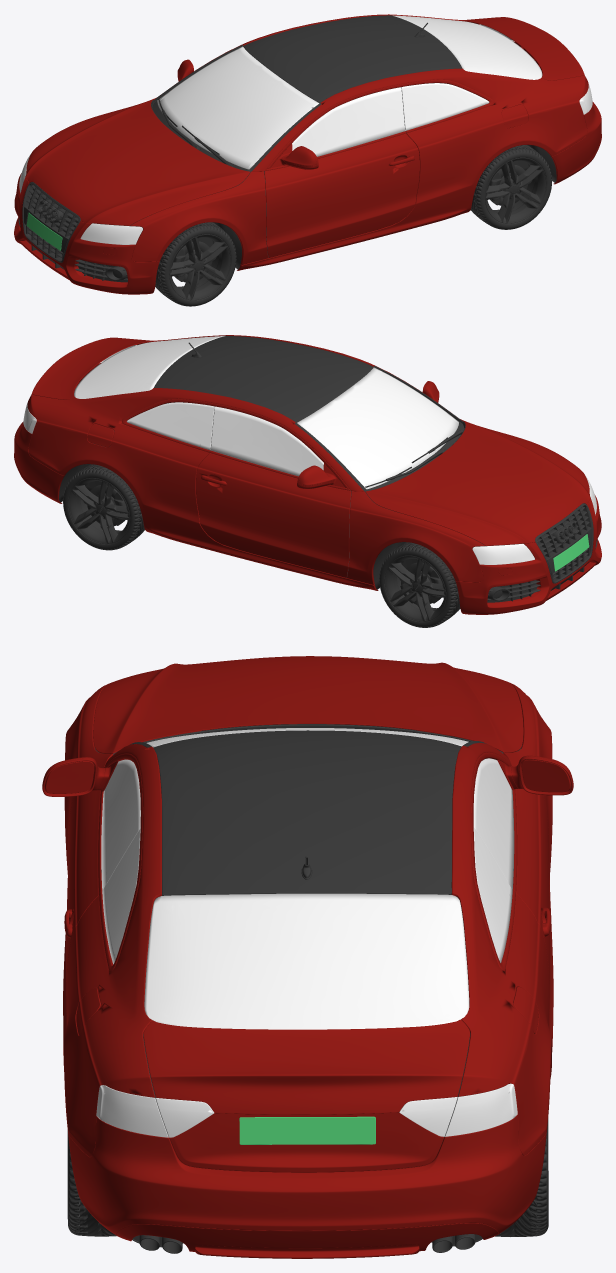
The model's file is gc_car1.glb.
3 renders of one model, top to bottom at view 1: azimuth 30°, elevation 25°; view 2: azimuth 150°, elevation 25°; view 3: azimuth 270°, elevation 25°, orthographic. The views are drawn at different scales.
Parts seen in each view (by area): view 1: Obj3d66_4616838_33_845, Obj3d66_4616838_28_213, Obj3d66_4616838_39_218, Obj3d66_4616838_47_756, Obj3d66_4616838_29_539, Obj3d66_4616838_35_493, Obj3d66_4616838_27_793, Obj3d66_4616838_67_536, Obj3d66_4616838_72_620, Obj3d66_4616838_63_449, Obj3d66_4616838_74_32, Obj3d66_4616838_34_979 (+5 smaller); view 2: Obj3d66_4616838_33_845, Obj3d66_4616838_28_213, Obj3d66_4616838_39_218, Obj3d66_4616838_47_756, Obj3d66_4616838_29_539, Obj3d66_4616838_35_493, Obj3d66_4616838_27_793, Obj3d66_4616838_80_474, Obj3d66_4616838_86_483, Obj3d66_4616838_82_272, Obj3d66_4616838_76_879, Obj3d66_4616838_34_979 (+4 smaller); view 3: Obj3d66_4616838_33_845, Obj3d66_4616838_28_213, Obj3d66_4616838_29_539, Obj3d66_4616838_11_563, Obj3d66_4616838_47_756, Obj3d66_4616838_27_793, Obj3d66_4616838_22_768, Obj3d66_4616838_76_879, Obj3d66_4616838_74_32, Obj3d66_4616838_18_129, Obj3d66_4616838_39_218, Obj3d66_4616838_40_590.
Boxes of the visible parts, x1,y1,x2,y2 form: Obj3d66_4616838_33_845: [14, 14, 601, 294]; Obj3d66_4616838_28_213: [243, 15, 462, 103]; Obj3d66_4616838_39_218: [157, 46, 319, 169]; Obj3d66_4616838_47_756: [292, 87, 405, 156]; Obj3d66_4616838_29_539: [392, 15, 542, 79]; Obj3d66_4616838_35_493: [18, 182, 127, 282]; Obj3d66_4616838_27_793: [401, 83, 489, 130]; Obj3d66_4616838_67_536: [169, 234, 230, 300]; Obj3d66_4616838_72_620: [485, 157, 546, 223]; Obj3d66_4616838_63_449: [155, 222, 236, 306]; Obj3d66_4616838_74_32: [471, 145, 551, 229]; Obj3d66_4616838_34_979: [19, 154, 142, 244]; Obj3d66_4616838_33_845: [14, 335, 601, 614]; Obj3d66_4616838_28_213: [154, 336, 373, 422]; Obj3d66_4616838_39_218: [297, 367, 458, 489]; Obj3d66_4616838_47_756: [210, 406, 323, 476]; Obj3d66_4616838_29_539: [74, 336, 224, 398]; Obj3d66_4616838_35_493: [487, 503, 597, 602]; Obj3d66_4616838_27_793: [127, 402, 214, 450]; Obj3d66_4616838_80_474: [68, 478, 129, 544]; Obj3d66_4616838_86_483: [384, 555, 446, 621]; Obj3d66_4616838_82_272: [379, 542, 460, 627]; Obj3d66_4616838_76_879: [63, 464, 144, 550]; Obj3d66_4616838_34_979: [472, 475, 596, 564]; Obj3d66_4616838_33_845: [42, 656, 573, 1258]; Obj3d66_4616838_28_213: [153, 730, 461, 895]; Obj3d66_4616838_29_539: [144, 893, 469, 1029]; Obj3d66_4616838_11_563: [96, 1083, 517, 1137]; Obj3d66_4616838_47_756: [101, 758, 514, 890]; Obj3d66_4616838_27_793: [102, 827, 512, 964]; Obj3d66_4616838_22_768: [239, 1116, 375, 1144]; Obj3d66_4616838_76_879: [495, 1118, 548, 1236]; Obj3d66_4616838_74_32: [67, 1131, 116, 1236]; Obj3d66_4616838_18_129: [132, 1234, 482, 1253]; Obj3d66_4616838_39_218: [146, 728, 468, 747]; Obj3d66_4616838_40_590: [130, 724, 498, 750].
Bounding box in the file's own units: 1.9 × 0.586 × 0.8205.
